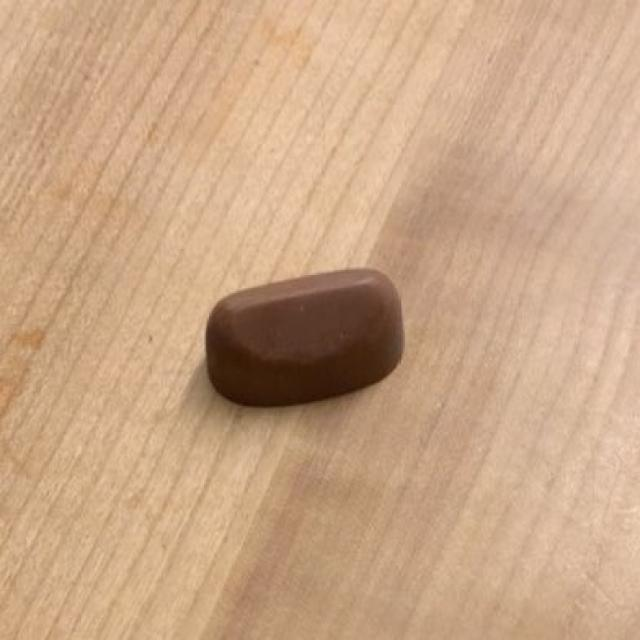nuts: (208, 274, 401, 407)
